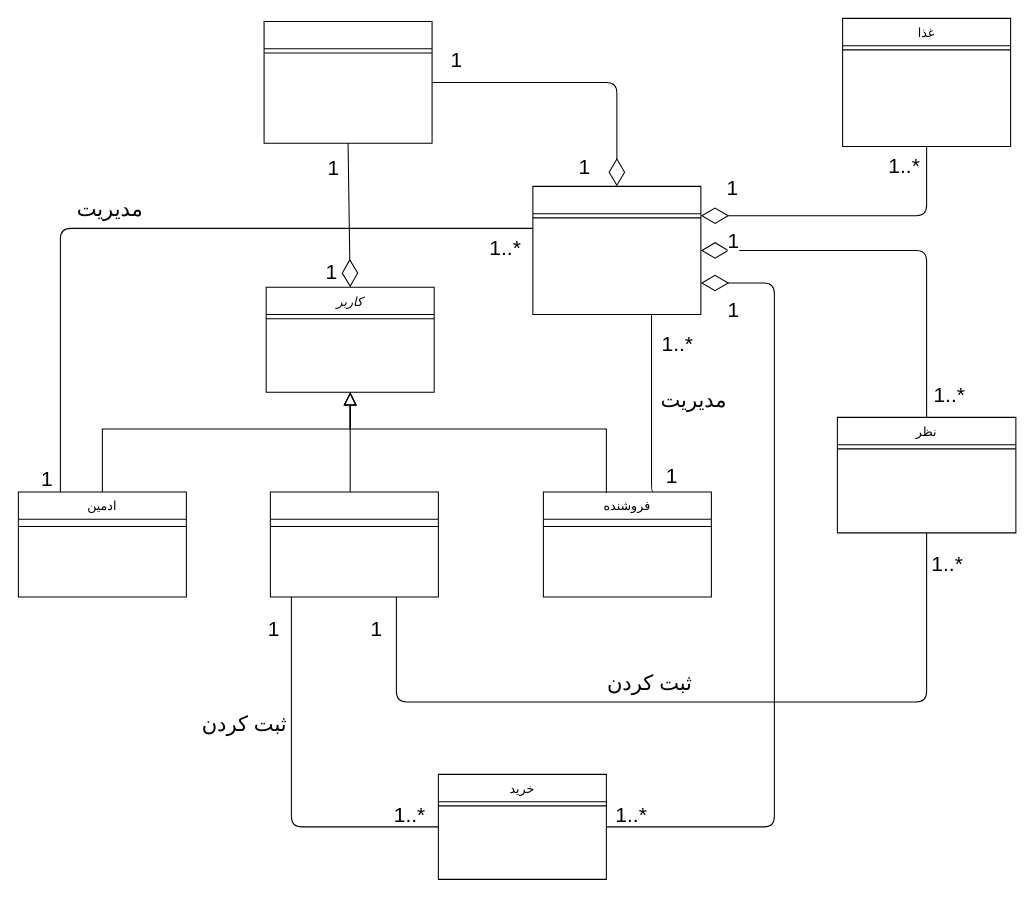
The diagram is 1034 pixels wide and 898 high, and some of its shapes have lost their labels. The centre of each missing label's shape, as x and y in pixels:
آدرس: (347,81)
خریدار: (353,544)
رستوران: (616,249)
